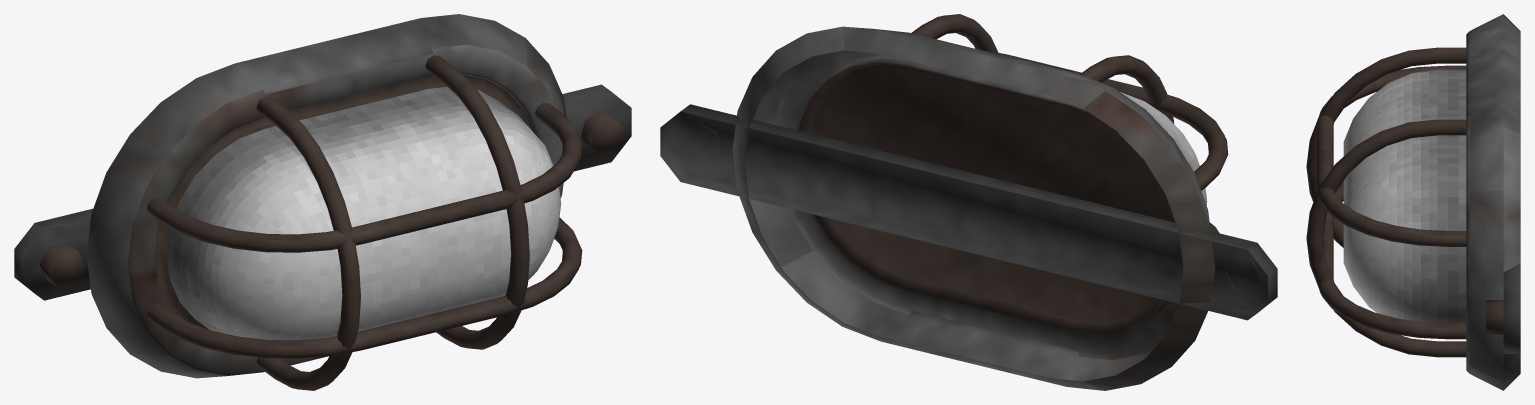
File: lamp_2.fbx
3 renders of one model, left to right at view 1: azimuth 30°, elevation 25°; view 2: azimuth 150°, elevation 25°; view 3: azimuth 270°, elevation 25°, orthographic. The views are drawn at different scales.
Parts seen in each view (by area): view 1: lamp_2; view 2: lamp_2; view 3: lamp_2.
Part boxes in pixels (x1,y1,x2,y2): lamp_2: (14, 14, 631, 390); lamp_2: (660, 14, 1277, 390); lamp_2: (1306, 14, 1520, 390).
Bounding box in the file's own units: 0.36 × 0.126 × 0.176.
